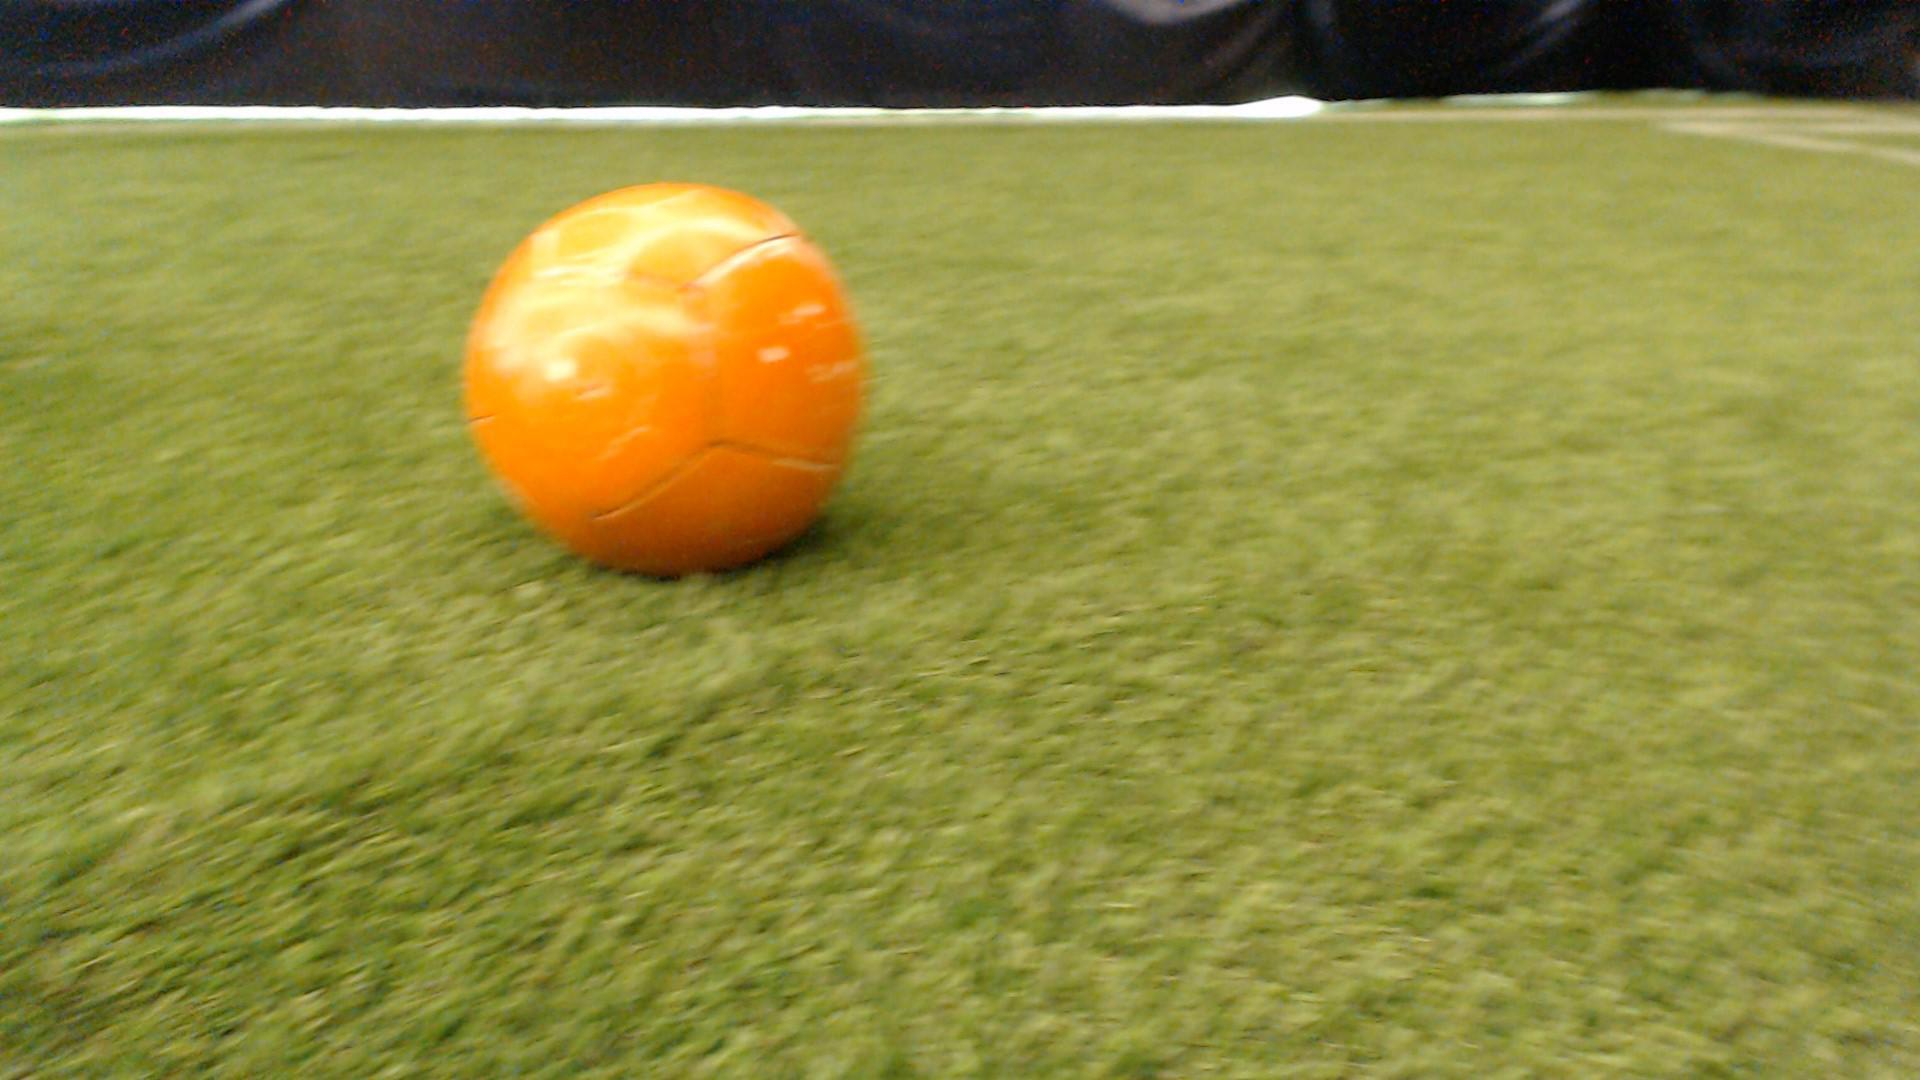bola: (427, 166, 930, 608)
